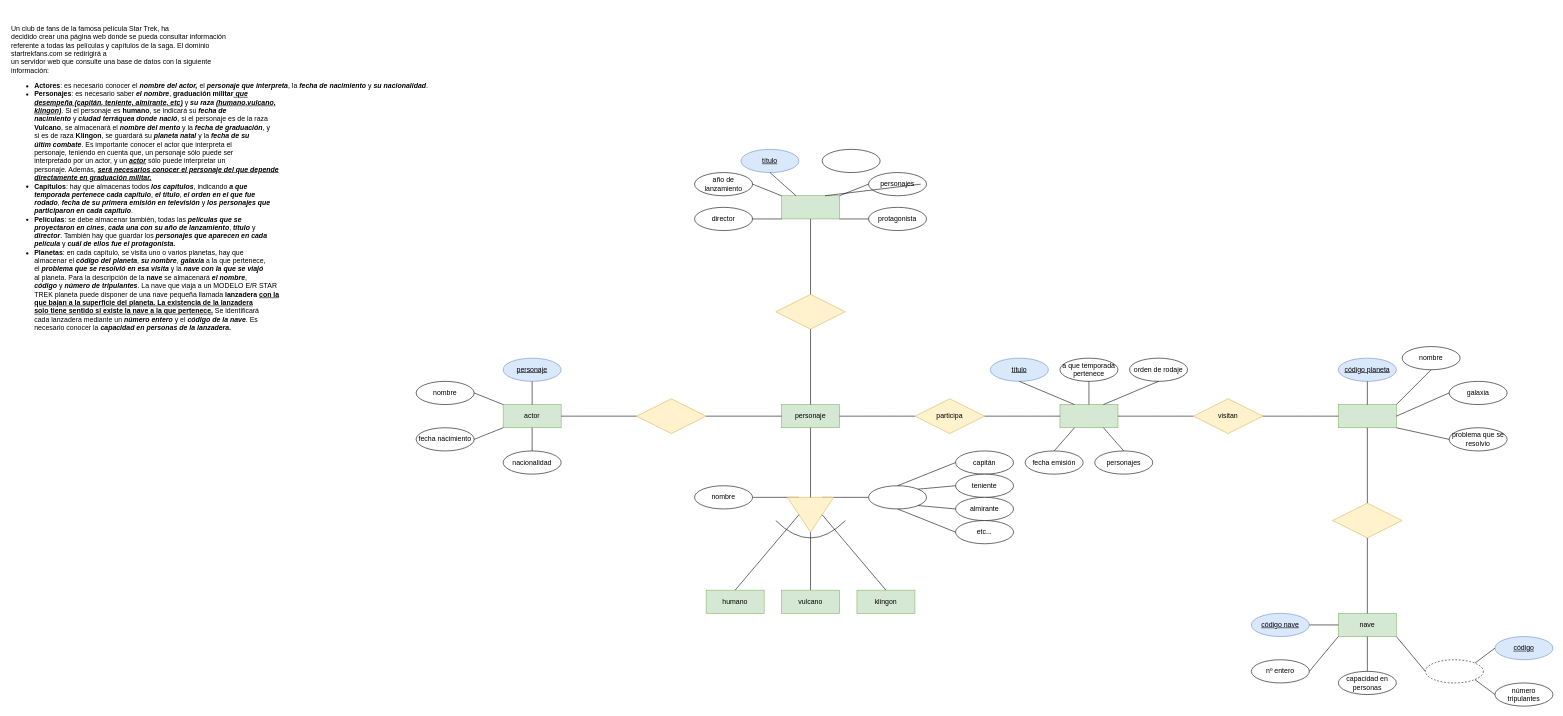
Some shapes in this 1563 by 716 pixel diagram are drawn without their labels. Each missing label, with the box of its shape:
aparece: (775, 294, 845, 329)
capítulo: (1059, 404, 1118, 428)
graduación militar: (868, 485, 927, 509)
interpreta: (636, 398, 706, 434)
lanzadera: (1425, 659, 1483, 683)
película: (781, 195, 840, 219)
películas proyectadas: (822, 149, 880, 173)
planeta: (1338, 404, 1396, 428)
se viajó: (1332, 503, 1402, 538)
